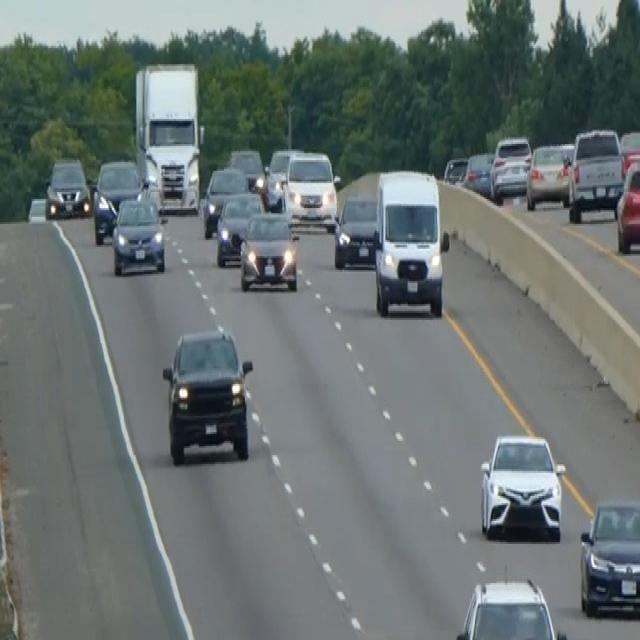car: (478, 430, 566, 540), (578, 494, 639, 619), (454, 574, 568, 638), (567, 124, 624, 220), (238, 210, 300, 292), (91, 156, 143, 244), (111, 194, 166, 276), (284, 150, 339, 230), (215, 188, 266, 266), (333, 192, 378, 268), (201, 164, 248, 236), (525, 140, 571, 210), (44, 154, 90, 220), (489, 133, 532, 201), (615, 156, 639, 252), (228, 146, 266, 194), (268, 146, 303, 192), (462, 150, 494, 198), (619, 128, 639, 174), (443, 155, 468, 185)
jeep: (161, 324, 254, 466)
lorry: (133, 59, 204, 213)
minibus: (371, 165, 449, 318)
